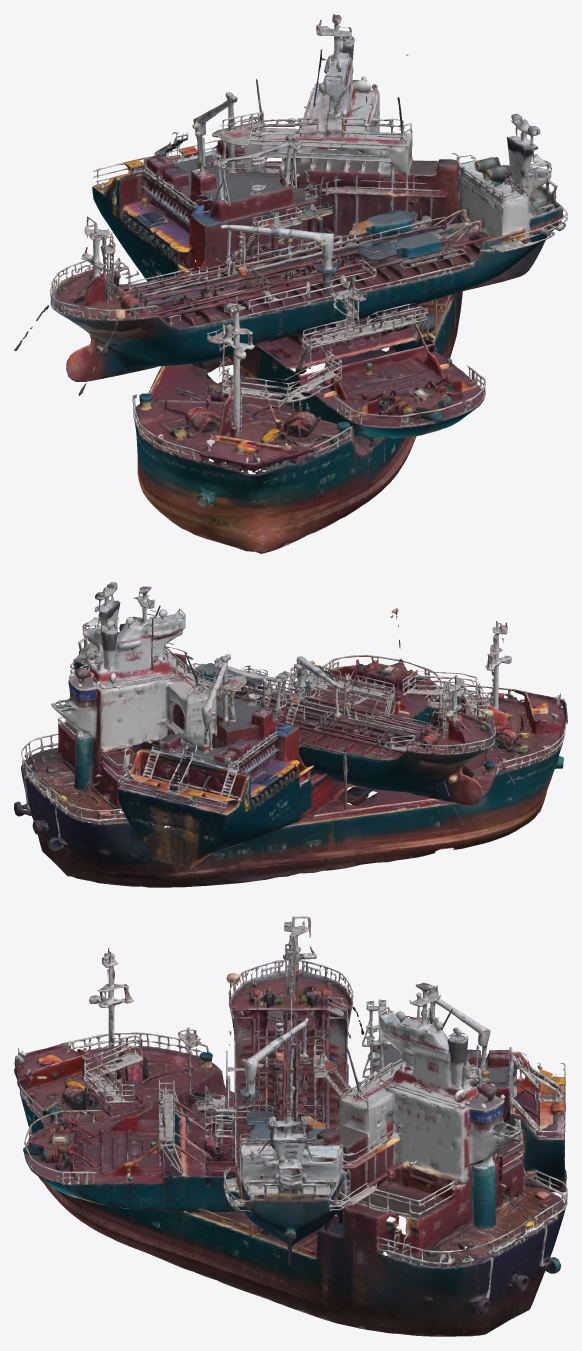
Rendered from vote-33_2026-05-06T113614.340.glb.
3 views of the same model, one above another, from view 1: azimuth 30°, elevation 25°; view 2: azimuth 150°, elevation 25°; view 3: azimuth 270°, elevation 25° (orthographic). The views are drawn at different scales.
Visible parts, largest first — view 1: world; view 2: world; view 3: world.
Boxes of the visible parts, <box> form: world: <box>14,14,567,553</box>; world: <box>14,582,567,887</box>; world: <box>14,916,567,1336</box>.
Bounding box in the file's own units: 0.9994 × 0.6126 × 1.
Materials: 1 (1 with a texture image).
